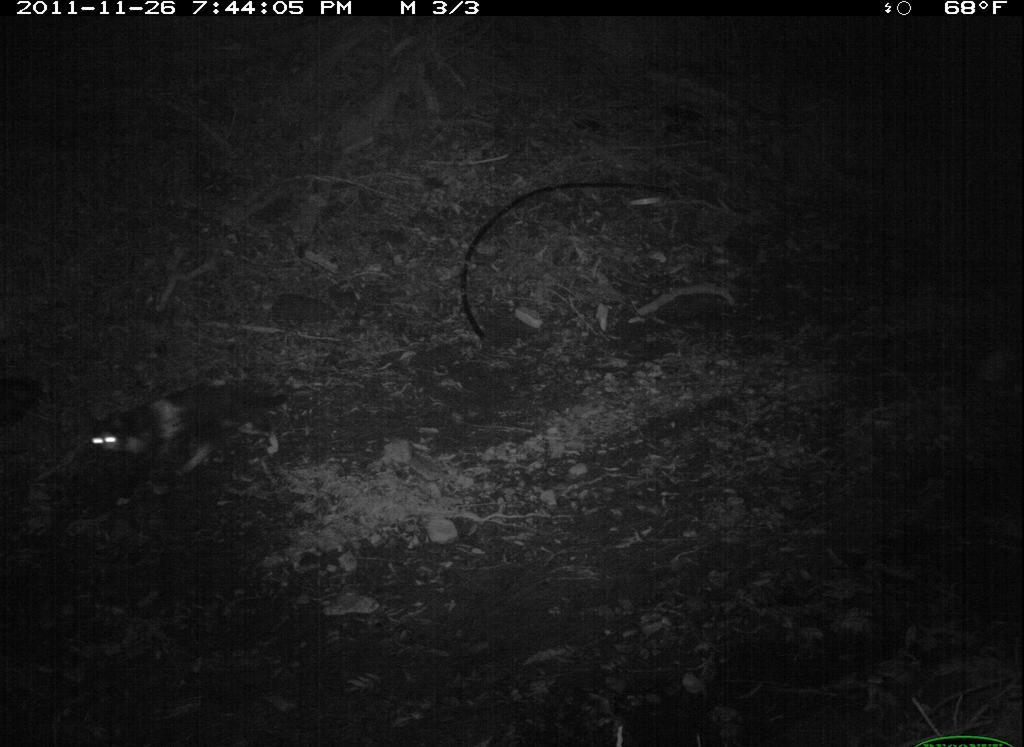cat: (56, 356, 321, 525)
